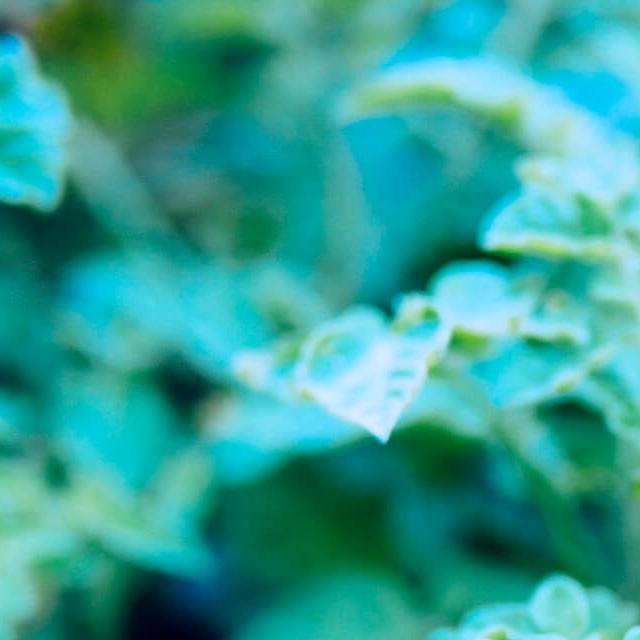Tomato leaf: (324, 602, 616, 640), (614, 612, 640, 640)
